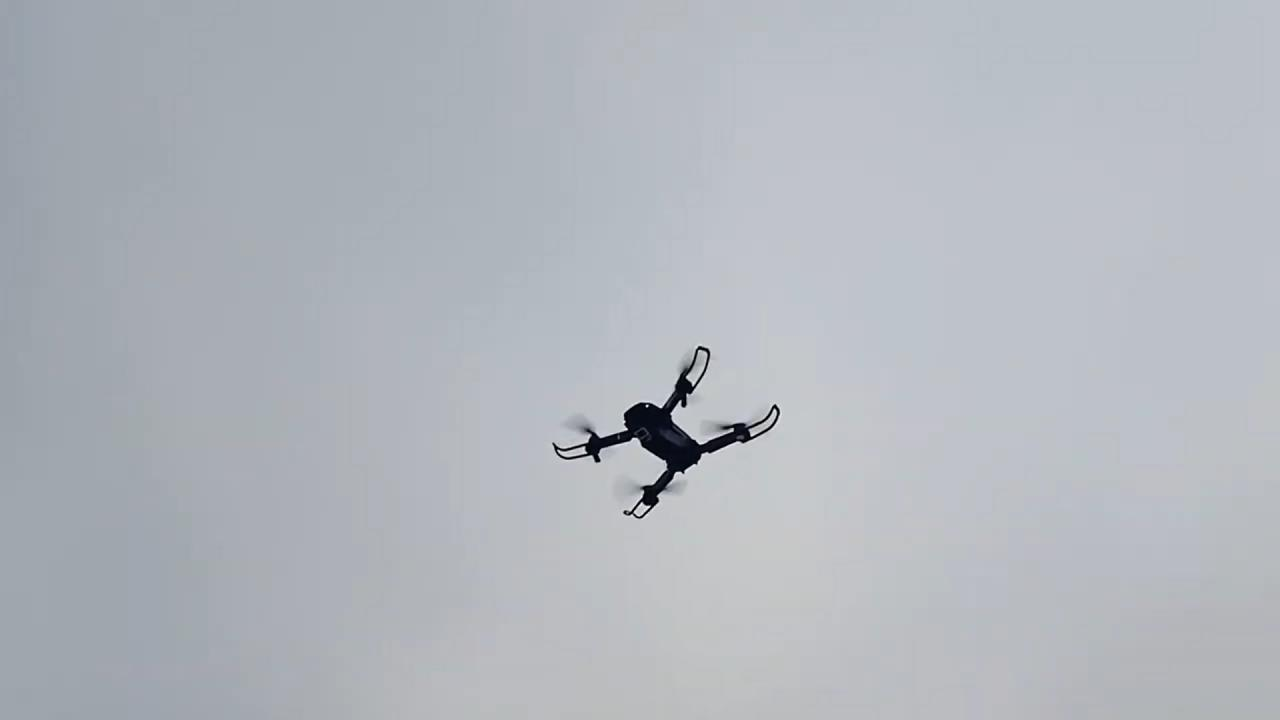Drone: (534, 324, 805, 548)
